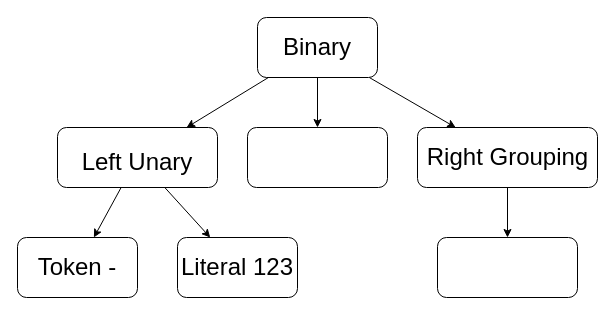
Some shapes in this 615 by 315 pixel diagram are drawn without their labels. Here are the shapes that lost their labels. From the top down, the box of each, then its label:
(246, 126, 388, 188): Operator *
(436, 236, 578, 298): Literal 45.67
